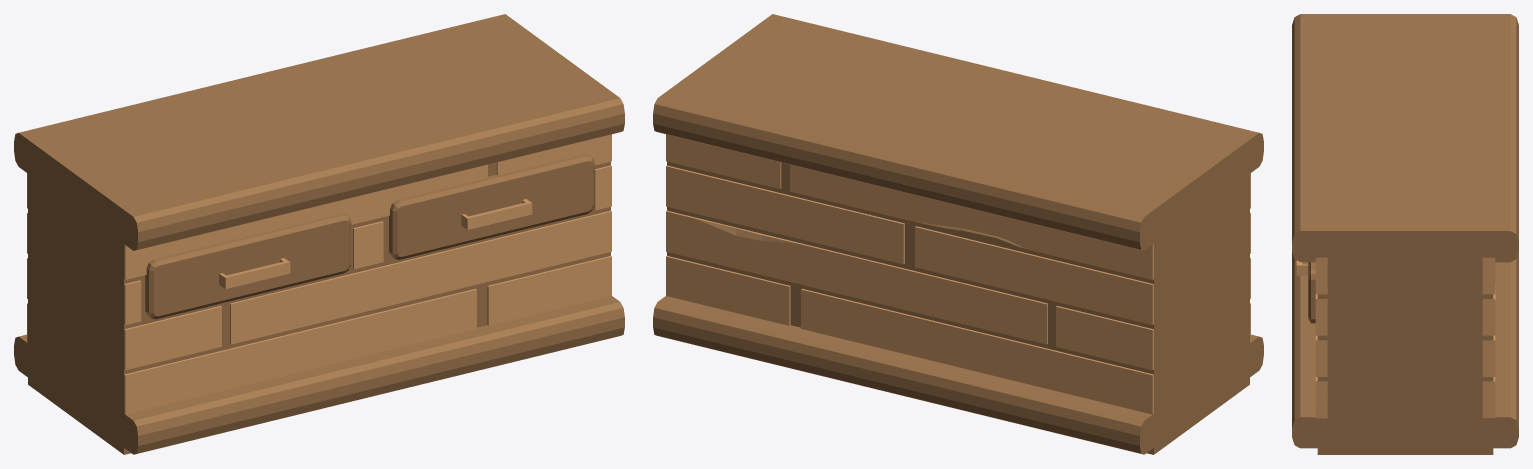
File: Counter_Drawers.fbx
3 renders of one model, left to right at view 1: azimuth 30°, elevation 25°; view 2: azimuth 150°, elevation 25°; view 3: azimuth 270°, elevation 25°, orthographic. The views are drawn at different scales.
Parts seen in each view (by area): view 1: Environment_Counter_Drawers; view 2: Environment_Counter_Drawers; view 3: Environment_Counter_Drawers.
Boxes of the visible parts, x1,y1,x2,y2 form: Environment_Counter_Drawers: (14, 14, 624, 454); Environment_Counter_Drawers: (653, 14, 1263, 454); Environment_Counter_Drawers: (1292, 14, 1518, 454).
Size of the model in its own units: 400 by 192 by 177.
